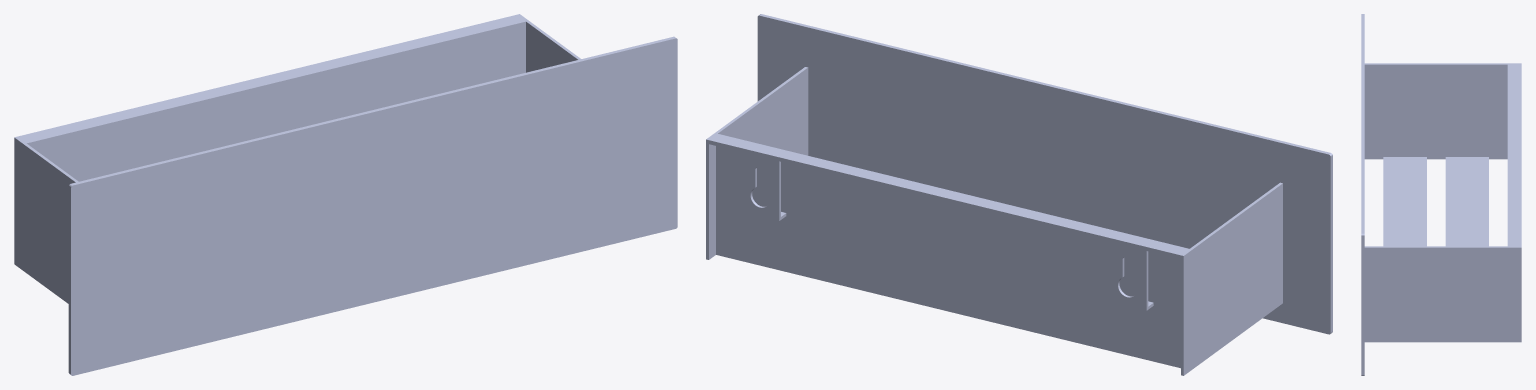
The model's file is skyline-mono.a93d1b52cb.glb.
3 views of the same model, side by side, from view 1: azimuth 30°, elevation 25°; view 2: azimuth 150°, elevation 25°; view 3: azimuth 270°, elevation 25° (orthographic). The views are drawn at different scales.
Parts seen in each view (by area): view 1: NAUO1; view 2: NAUO1; view 3: NAUO1.
Boxes of the visible parts, left/top/right/bottom form: NAUO1: left=14, top=14, right=677, bottom=375; NAUO1: left=706, top=14, right=1332, bottom=375; NAUO1: left=1361, top=14, right=1521, bottom=375.
Size of the model in its own units: 0.3 by 0.09 by 0.092.
